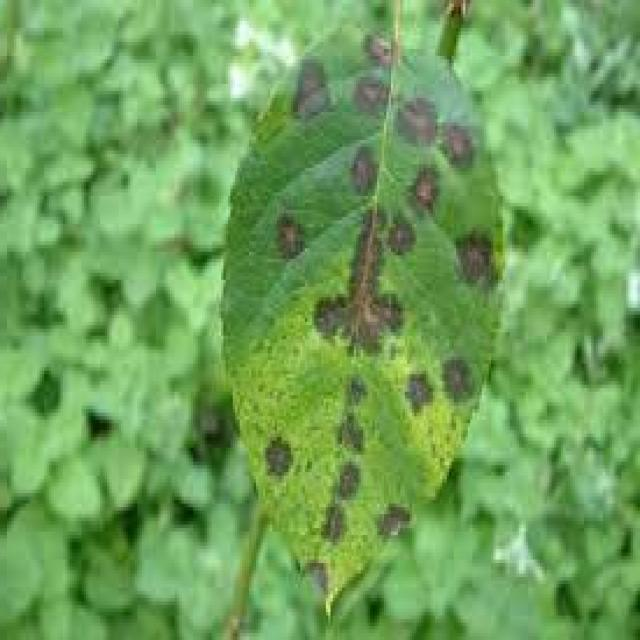black-spot: (246, 101, 485, 481)
